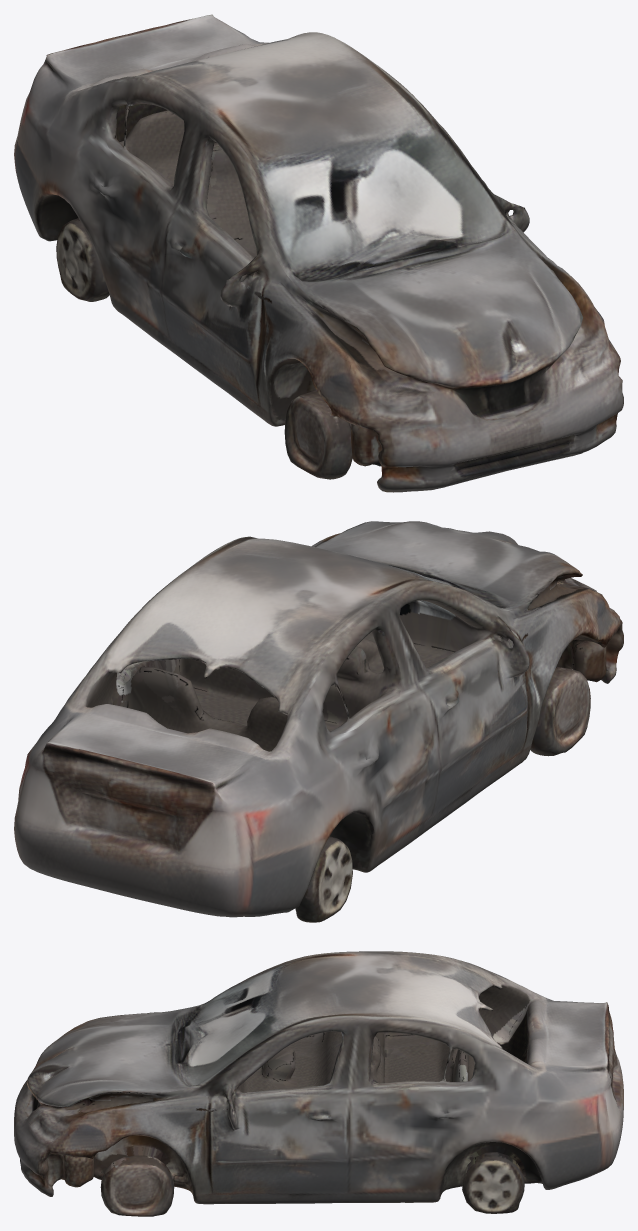
File: Hero_Wrecked_Sedan.fbx
3 views of the same model, one above another, from view 1: azimuth 30°, elevation 25°; view 2: azimuth 150°, elevation 25°; view 3: azimuth 270°, elevation 25° (orthographic). The views are drawn at different scales.
Visible parts, largest first — view 1: Hero_Wrecked_Sedan; view 2: Hero_Wrecked_Sedan; view 3: Hero_Wrecked_Sedan.
Boxes of the visible parts, x1=… form: Hero_Wrecked_Sedan: x1=14, y1=14, x2=623, y2=492; Hero_Wrecked_Sedan: x1=14, y1=521, x2=623, y2=922; Hero_Wrecked_Sedan: x1=14, y1=951, x2=623, y2=1216.
Bounding box in the file's own units: 1.86 × 1.41 × 4.19.
